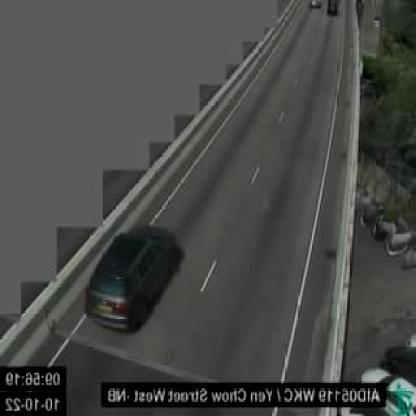Car: (84, 224, 178, 332), (310, 1, 320, 9)
